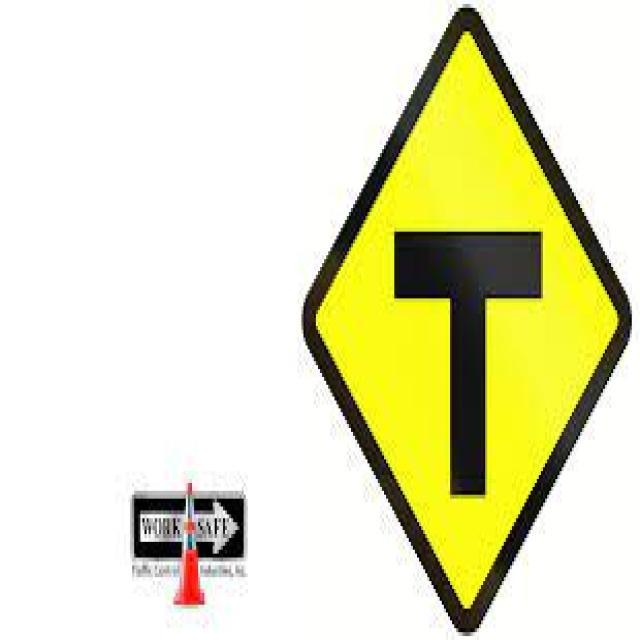t intersection: (312, 17, 627, 621)
